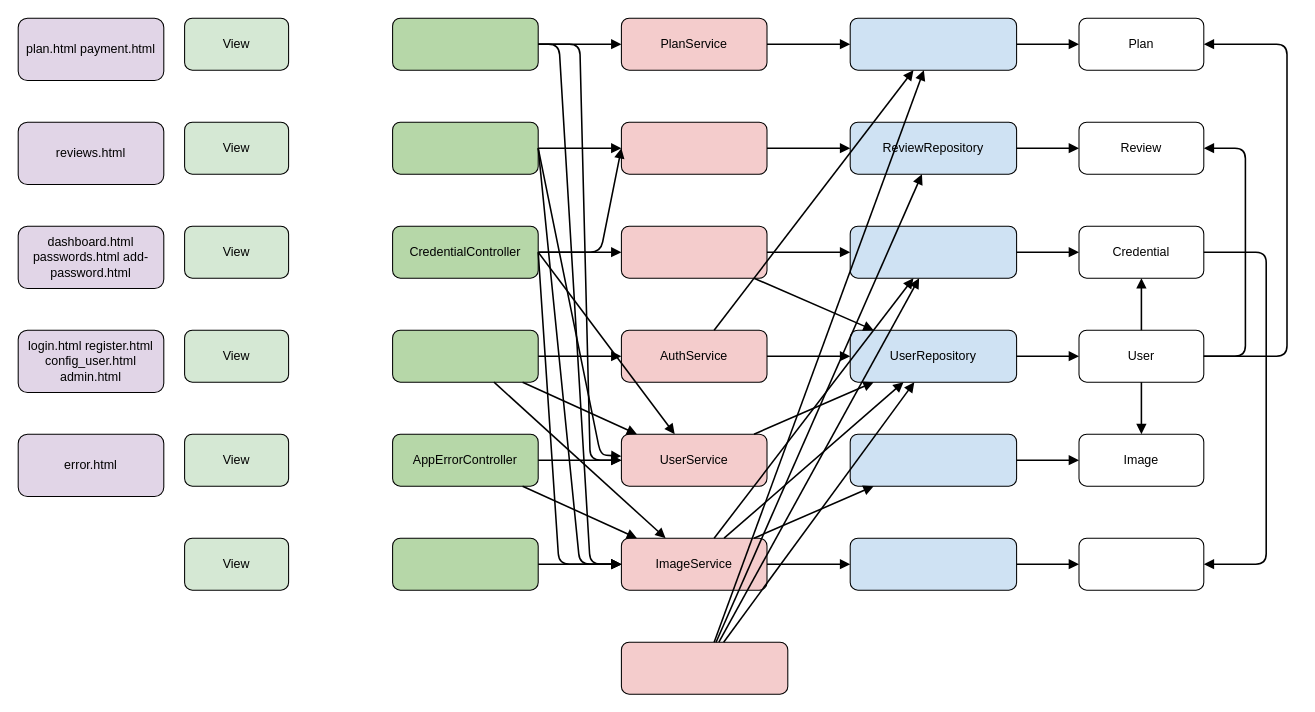
Some shapes in this 1315 by 712 pixel diagram are drawn without their labels. The centre of each missing label's shape, as x and y in pixels:
"CredentialImage" goes at (1141,563).
"CredentialImageRepository" goes at (933,563).
"CredentialRepository" goes at (933,251).
"DatabaseInitializer" goes at (704,667).
"EntryService" goes at (693,251).
"ImageController" goes at (465,563).
"ImageRepository" goes at (933,459).
"PlanController" goes at (465,43).
"PlanRepository" goes at (933,43).
"ReviewController" goes at (465,147).
"ReviewService" goes at (693,147).
"UserController" goes at (465,355).
